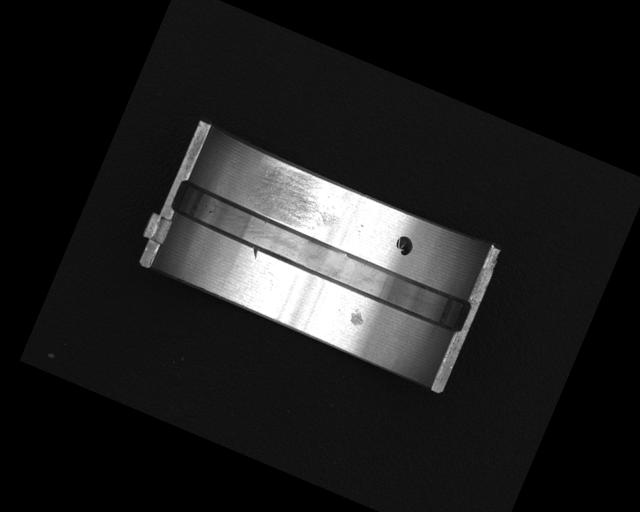blot: (392, 232, 416, 259)
bruise: (346, 305, 369, 330), (250, 247, 260, 260)
gap: (165, 178, 475, 335)
scratch: (244, 155, 350, 241)
